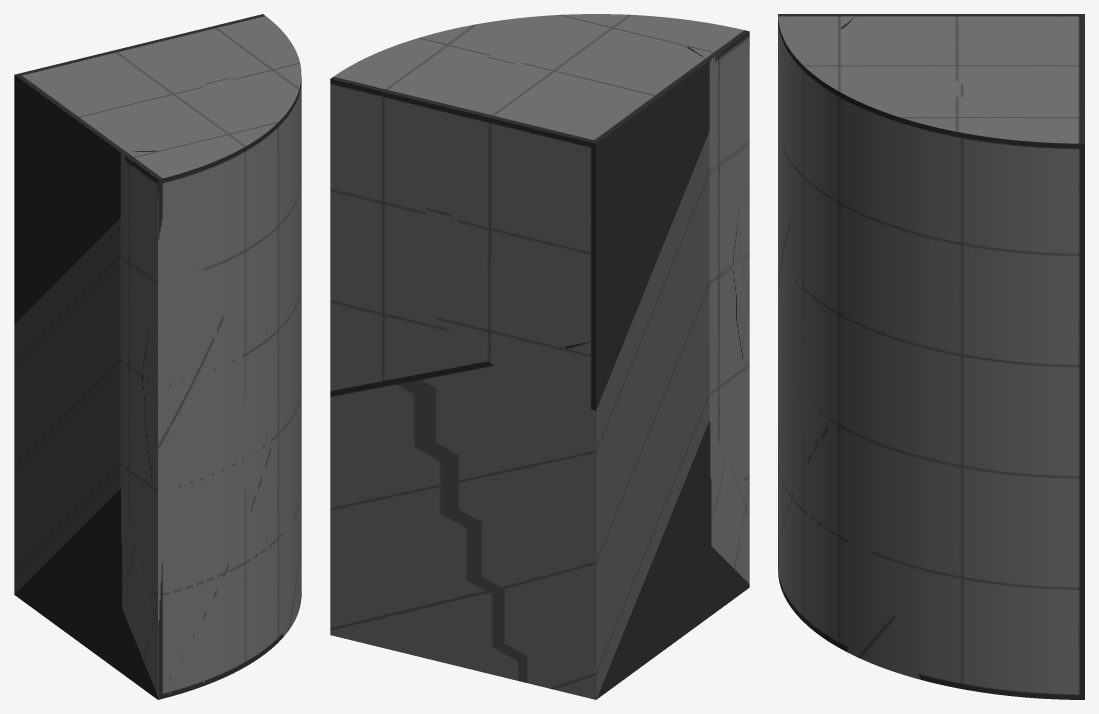
Rendered from SM_QuarterCylinder_75b03732c6.glb.
The picture shows the model from 3 angles, left to right: view 1: azimuth 30°, elevation 25°; view 2: azimuth 150°, elevation 25°; view 3: azimuth 270°, elevation 25°; orthographic projection. The views are drawn at different scales.
Visible parts, largest first — view 1: SM_QuarterCylinder5; view 2: SM_QuarterCylinder5; view 3: SM_QuarterCylinder5.
Part boxes in pixels (x1,y1,x2,y2): SM_QuarterCylinder5: (14,14,301,699); SM_QuarterCylinder5: (330,14,749,699); SM_QuarterCylinder5: (778,14,1084,699).
Bounding box in the file's own units: 0.5 × 1 × 0.5.
1 material, 1 textured.
